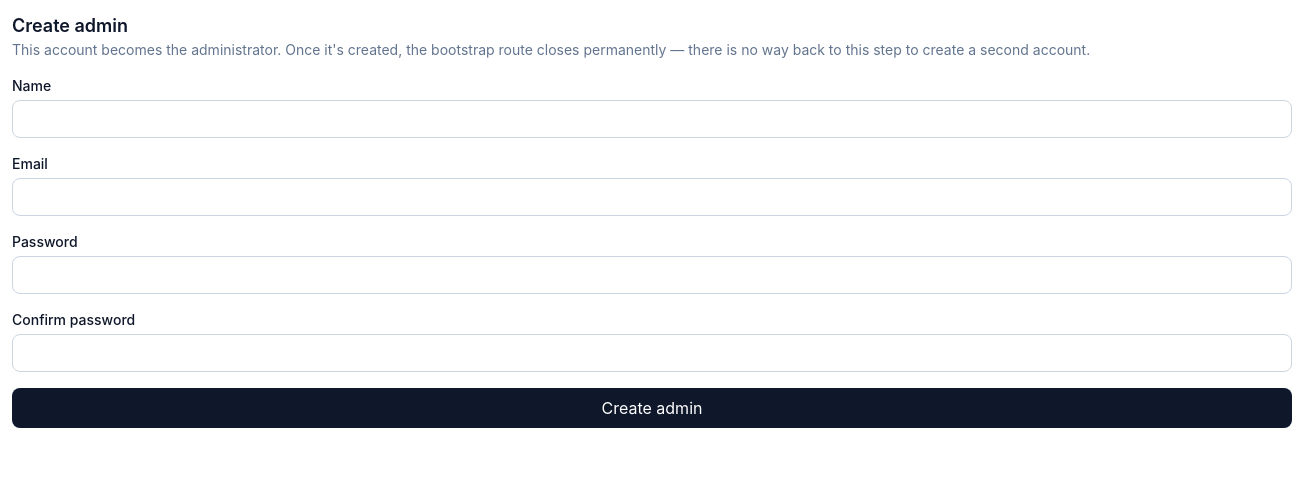
Test: StepCreateAdmin › refuses a weak password client-side, with no request
In the field labelled "Name": (652, 119) x1=12 y1=100 x2=1292 y2=138, type "Ada"
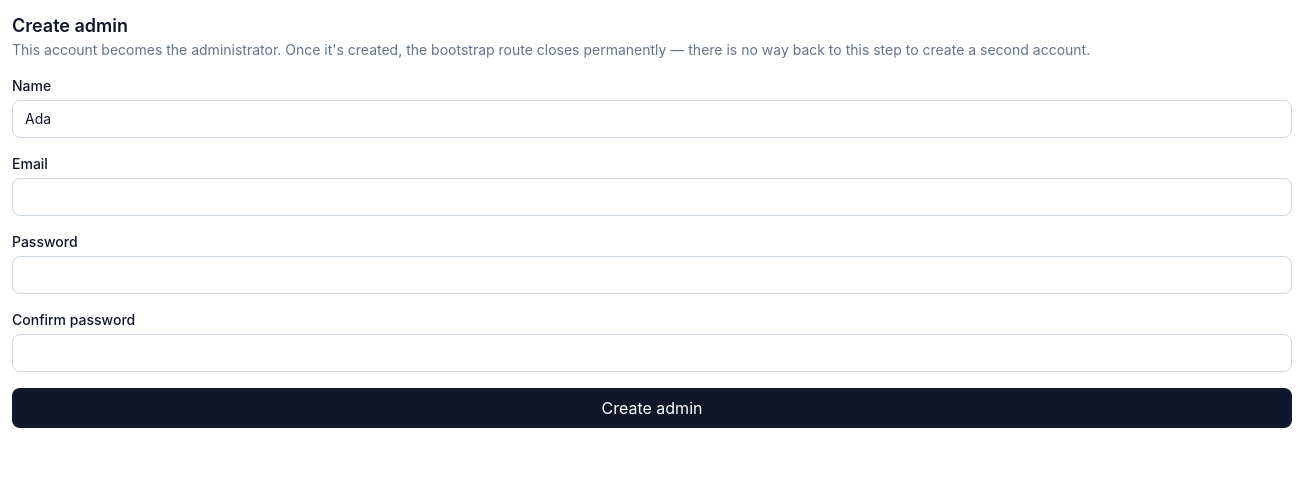
In the field labelled "Email": (652, 197) x1=12 y1=178 x2=1292 y2=216, type "ada@example.com"
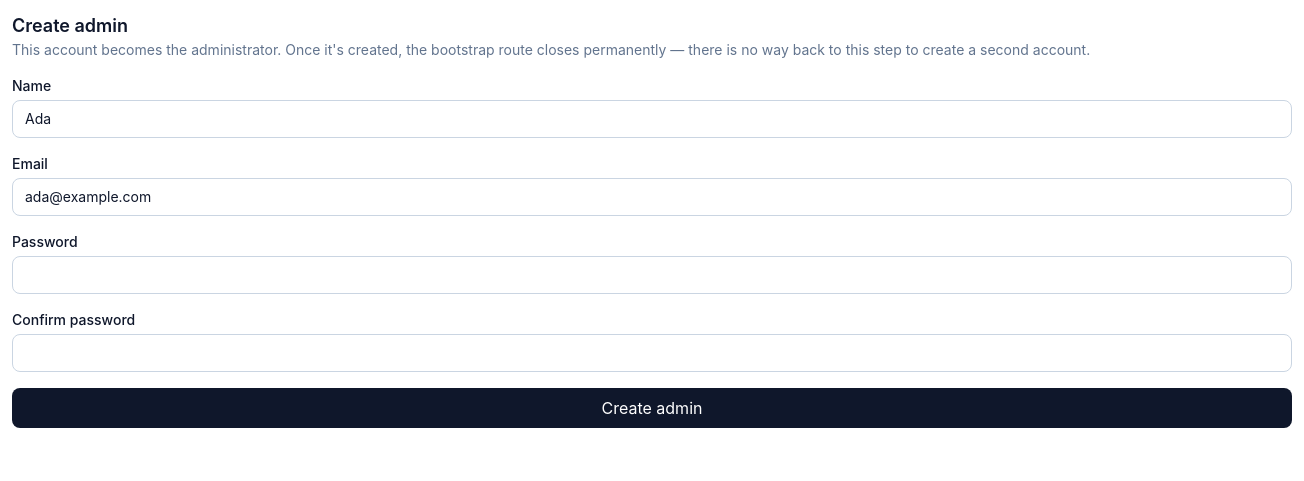
In the password field labelled "Password": (652, 275) x1=12 y1=256 x2=1292 y2=294, type "short"
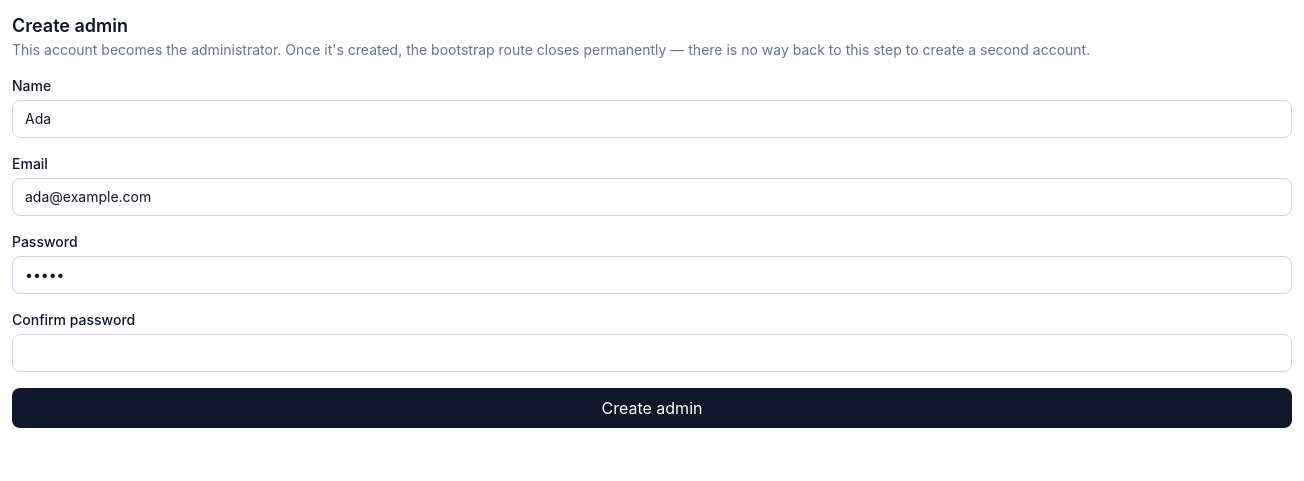
In the password field labelled "Confirm password": (652, 353) x1=12 y1=334 x2=1292 y2=372, type "short"
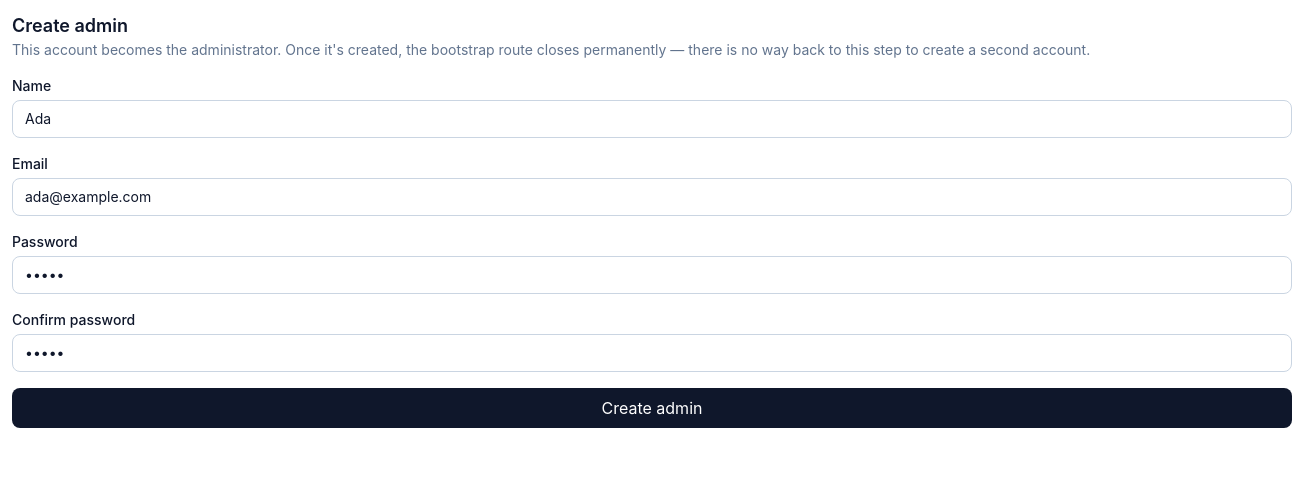
Click the button "Create admin": (652, 408) x1=12 y1=388 x2=1292 y2=428
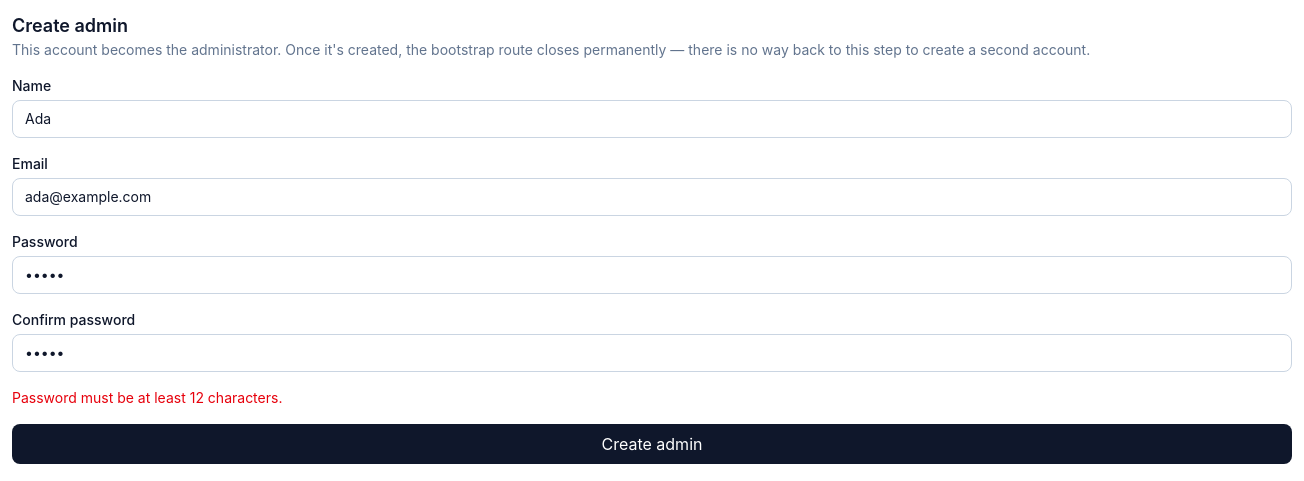
Expected: the text "Password must be at least 12 characters." is shown, x1=12 y1=389 x2=282 y2=406
